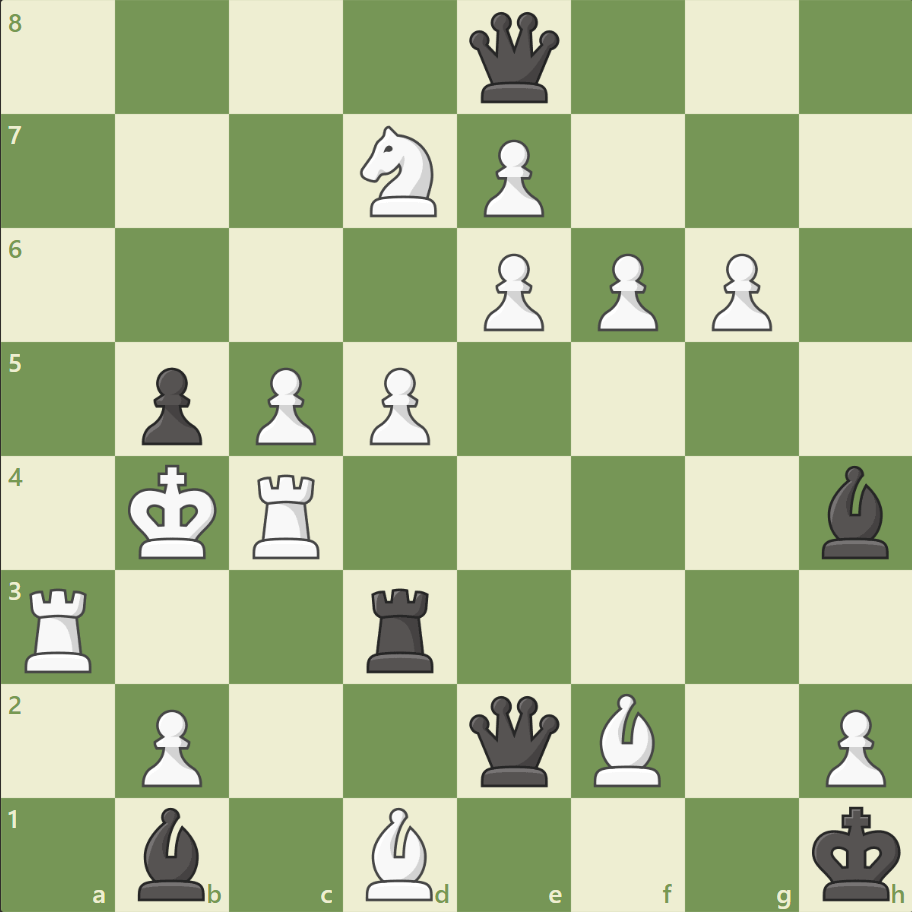B: (585, 687, 669, 790), (358, 801, 442, 904)
K: (124, 458, 224, 566)
N: (351, 121, 449, 223)
P: (474, 132, 549, 223), (474, 246, 549, 337), (701, 246, 776, 337), (247, 359, 322, 450), (133, 700, 208, 791), (588, 246, 662, 337), (361, 359, 435, 450), (815, 700, 889, 791)
R: (246, 466, 329, 563), (19, 579, 102, 676)
b: (812, 460, 896, 563), (131, 801, 215, 904)
k: (806, 798, 906, 906)
p: (133, 359, 208, 450)
q: (464, 9, 563, 108), (464, 690, 563, 789)
r: (360, 579, 442, 676)
